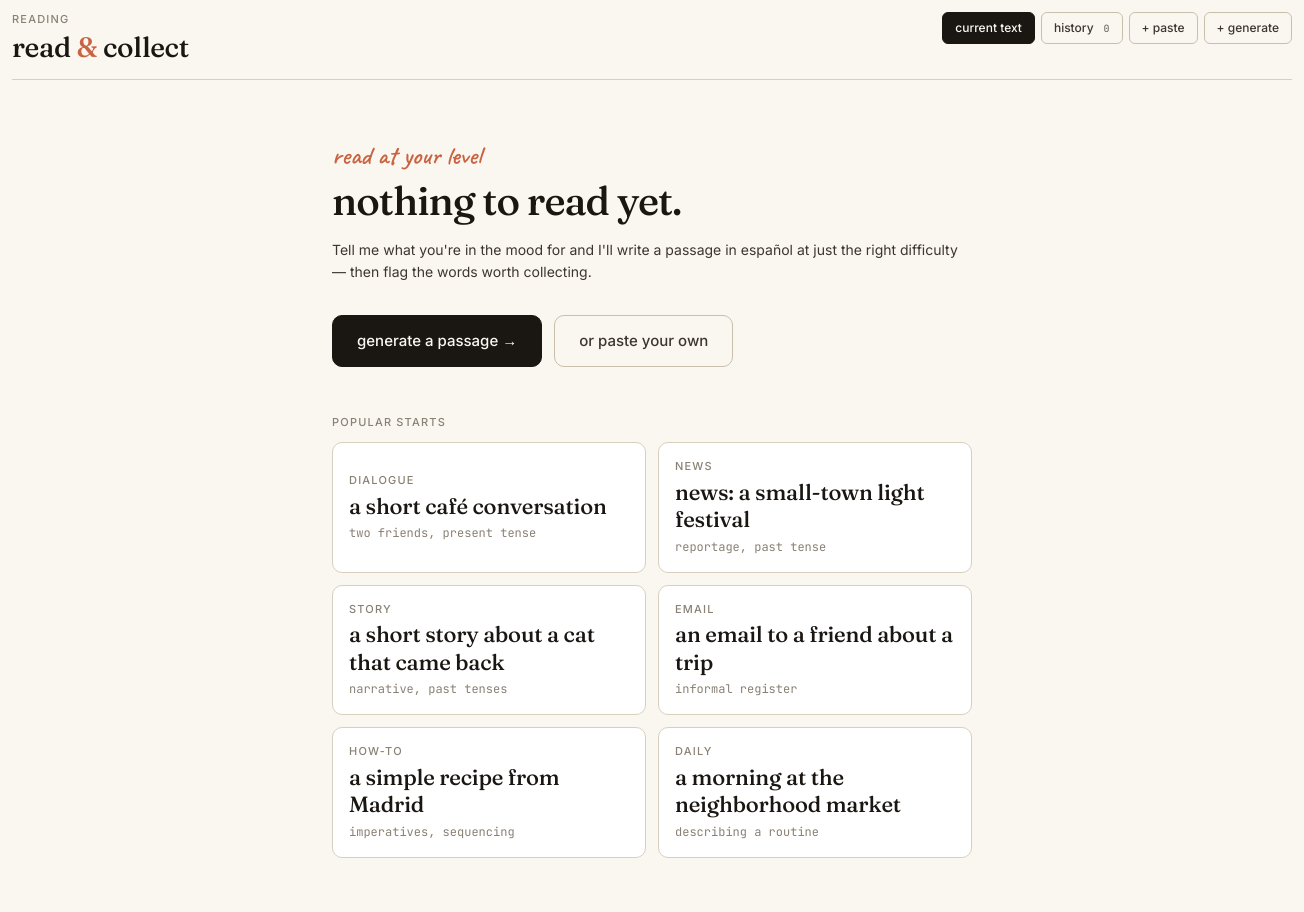
Scenario: ReadPage — top-bar view switching › clicking "history" with no entries shows the HistoryEmptyState
Step 1. Click the button "history 0" → (1082, 28), box [1041,12,1123,44]
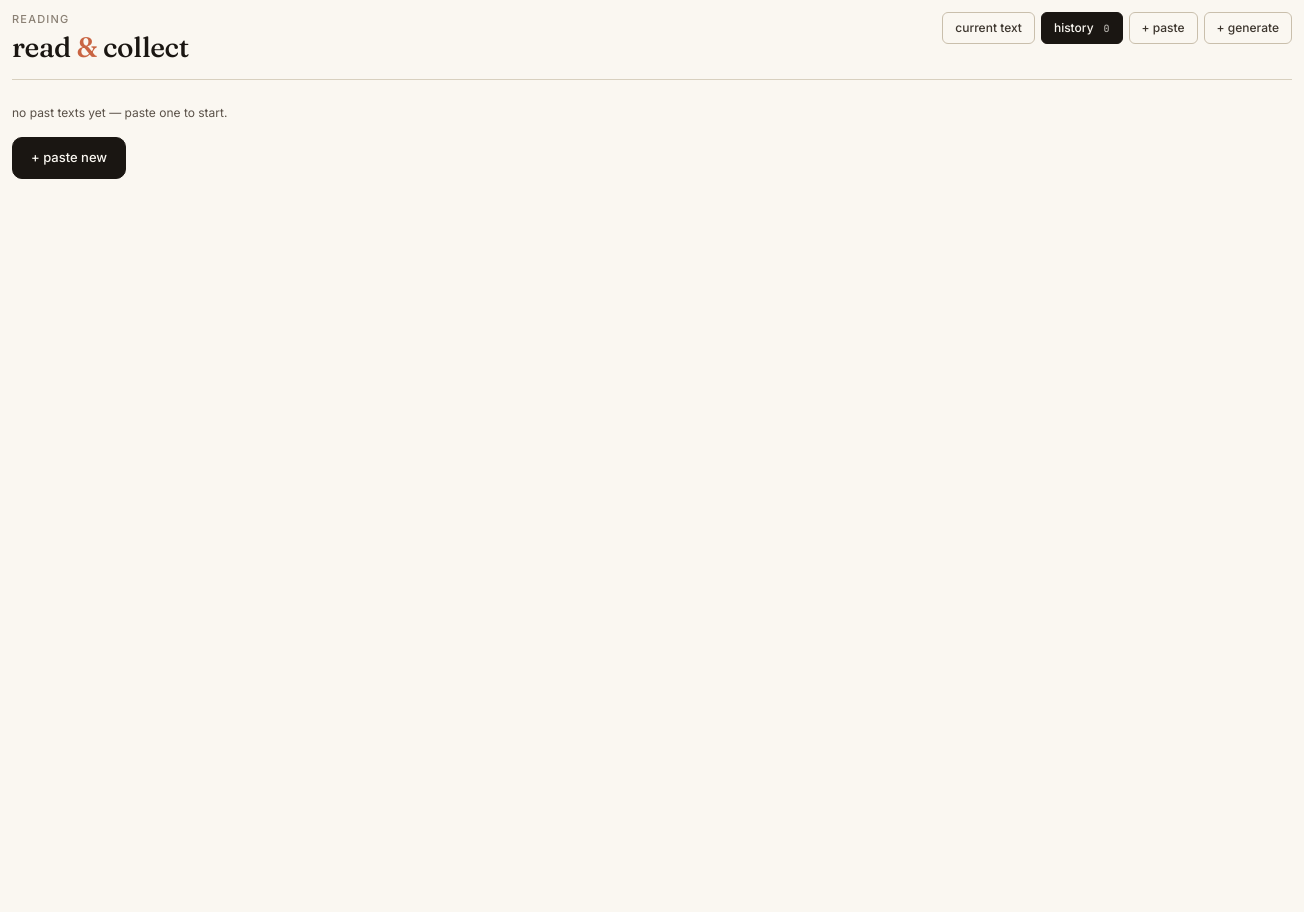
Expected: the text "no past texts yet — paste one to start." is shown, [12,104,227,121]
